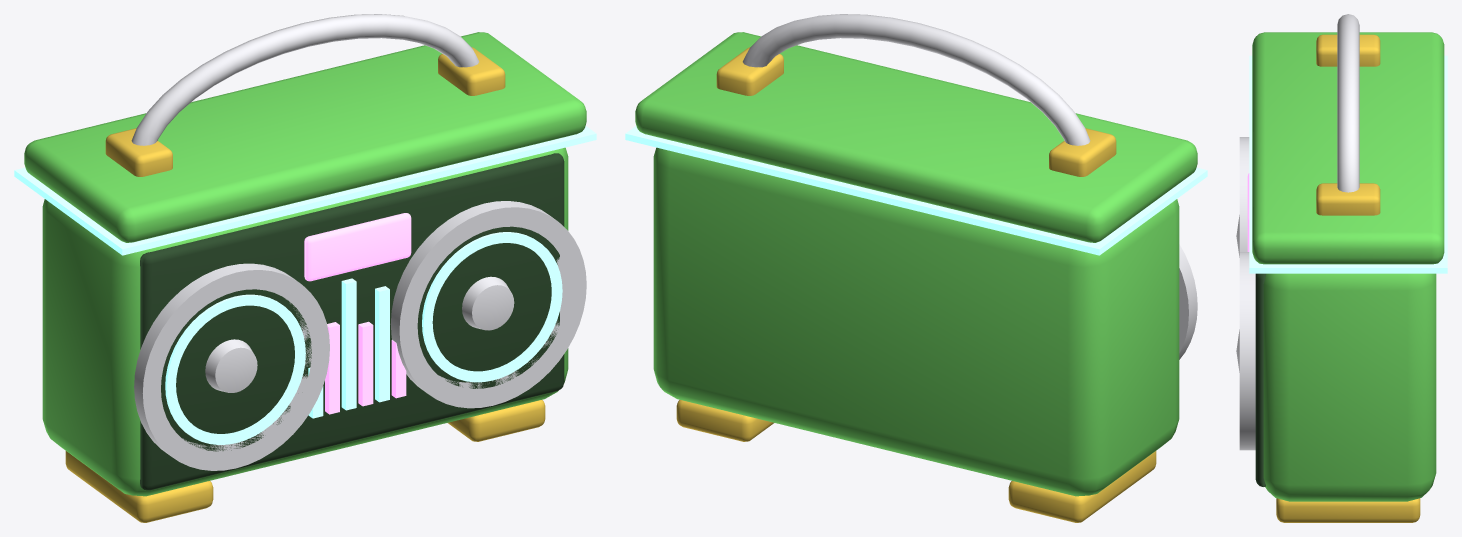
The model's file is CrateEmote.fbx.
3 renders of one model, left to right at view 1: azimuth 30°, elevation 25°; view 2: azimuth 150°, elevation 25°; view 3: azimuth 270°, elevation 25°, orthographic. The views are drawn at different scales.
Parts seen in each view (by area): view 1: CrateEmote_Lid_E_Lime, CrateEmote_E_Dark, CrateEmote_E_White, CrateEmote_E_Lime, CrateEmote_E_Cyan, CrateEmote_Lid_E_White, CrateEmote_E_Pink, CrateEmote_Lid_E_Cyan, CrateEmote_P_Gold, CrateEmote_Lid_P_Gold; view 2: CrateEmote_E_Lime, CrateEmote_Lid_E_Lime, CrateEmote_Lid_E_White, CrateEmote_Lid_E_Cyan, CrateEmote_P_Gold, CrateEmote_Lid_P_Gold, CrateEmote_E_White; view 3: CrateEmote_E_Lime, CrateEmote_Lid_E_Lime, CrateEmote_E_White, CrateEmote_Lid_E_White, CrateEmote_Lid_E_Cyan, CrateEmote_Lid_P_Gold, CrateEmote_P_Gold, CrateEmote_E_Dark.
Part boxes in pixels (x1,y1,x2,y2): CrateEmote_Lid_E_Lime: (24, 32, 586, 242); CrateEmote_E_Dark: (140, 153, 564, 490); CrateEmote_E_White: (134, 201, 586, 470); CrateEmote_E_Lime: (42, 147, 568, 496); CrateEmote_E_Cyan: (165, 232, 562, 444); CrateEmote_Lid_E_White: (131, 14, 479, 145); CrateEmote_E_Pink: (304, 213, 411, 414); CrateEmote_Lid_E_Cyan: (14, 126, 596, 255); CrateEmote_P_Gold: (65, 400, 545, 522); CrateEmote_Lid_P_Gold: (105, 47, 505, 176); CrateEmote_E_Lime: (653, 147, 1179, 496); CrateEmote_Lid_E_Lime: (635, 32, 1197, 242); CrateEmote_Lid_E_White: (742, 14, 1090, 145); CrateEmote_Lid_E_Cyan: (625, 126, 1207, 255); CrateEmote_P_Gold: (676, 400, 1156, 522); CrateEmote_Lid_P_Gold: (716, 47, 1116, 176); CrateEmote_E_White: (1179, 244, 1197, 359); CrateEmote_E_Lime: (1263, 273, 1436, 501); CrateEmote_Lid_E_Lime: (1252, 32, 1444, 264); CrateEmote_E_White: (1236, 137, 1255, 450); CrateEmote_Lid_E_White: (1337, 14, 1359, 192); CrateEmote_Lid_E_Cyan: (1249, 55, 1447, 273); CrateEmote_Lid_P_Gold: (1316, 34, 1380, 215); CrateEmote_P_Gold: (1276, 498, 1420, 522); CrateEmote_E_Dark: (1255, 273, 1265, 486).
Bounding box in the file's own units: 3.14 × 2.69 × 1.32.
